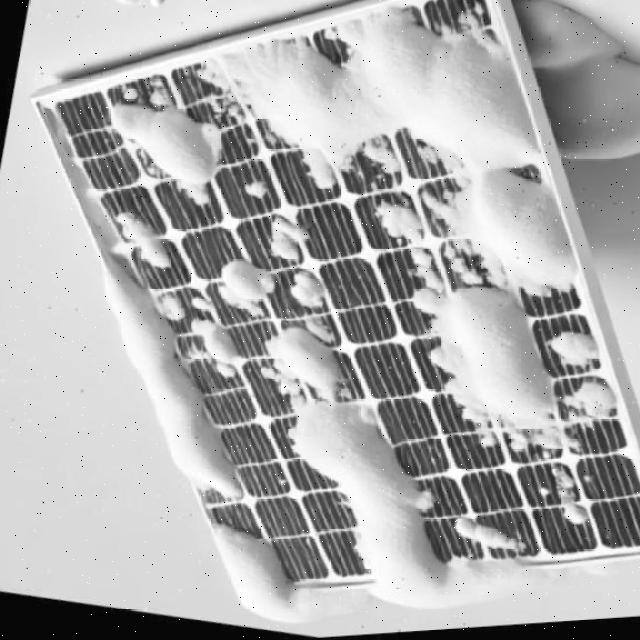Anomaly Solar Panel: (38, 0, 640, 640)
Snow: (190, 0, 585, 394), (202, 307, 535, 638), (371, 168, 580, 497), (96, 230, 248, 530), (96, 69, 253, 221), (200, 512, 290, 628), (104, 203, 182, 287), (187, 311, 255, 395), (204, 258, 281, 332), (540, 464, 597, 544), (445, 523, 528, 571), (560, 390, 619, 439), (284, 273, 337, 322), (267, 218, 316, 270), (546, 339, 601, 379), (244, 182, 267, 206)
